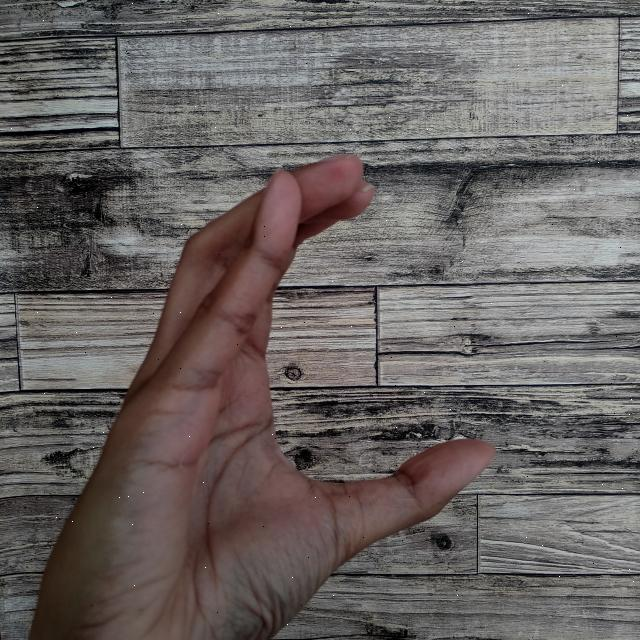C: (32, 148, 498, 640)
